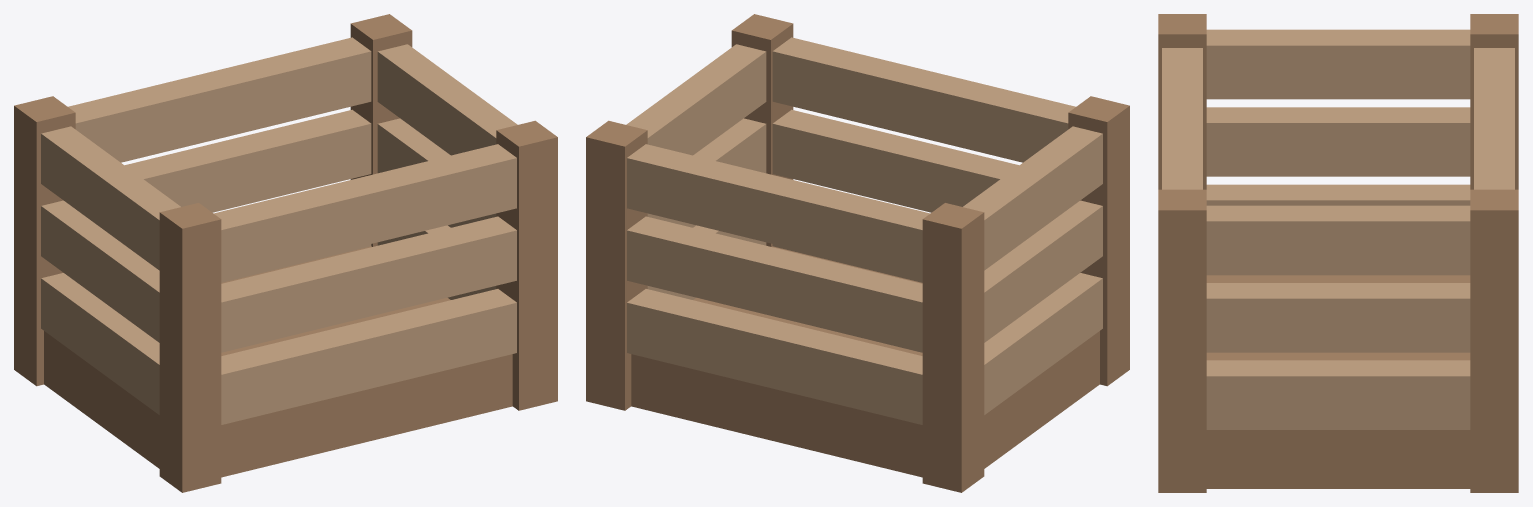
The model's file is fishing-crate.glb.
The picture shows the model from 3 angles, left to right: view 1: azimuth 30°, elevation 25°; view 2: azimuth 150°, elevation 25°; view 3: azimuth 270°, elevation 25°; orthographic projection. The views are drawn at different scales.
Parts seen in each view (by area): view 1: Crate floor, Crate long slat.004, Crate long slat, Crate long slat.002, Crate long slat.005, Crate corner, Crate long slat.003, Crate corner.002, Crate end slat.004, Crate corner.001, Crate end slat.002, Crate end slat (+3 smaller); view 2: Crate floor, Crate long slat.005, Crate long slat.001, Crate long slat.003, Crate long slat.004, Crate corner.001, Crate long slat.002, Crate corner.003, Crate end slat.004, Crate corner, Crate end slat.002, Crate end slat (+3 smaller); view 3: Crate floor, Crate end slat.004, Crate end slat.005, Crate end slat.001, Crate end slat.002, Crate end slat.003, Crate corner.002, Crate corner.003, Crate end slat, Crate long slat.004, Crate long slat.005, Crate corner (+1 smaller).
Boxes of the visible parts, left/top/right/bottom form: Crate floor: left=44, top=246, right=512, bottom=477; Crate long slat.004: left=213, top=144, right=516, bottom=280; Crate long slat: left=221, top=289, right=516, bottom=424; Crate long slat.002: left=221, top=216, right=516, bottom=352; Crate long slat.005: left=68, top=37, right=371, bottom=162; Crate corner: left=159, top=203, right=221, bottom=492; Crate long slat.003: left=125, top=109, right=371, bottom=212; Crate corner.002: left=496, top=120, right=557, bottom=410; Crate end slat.004: left=41, top=126, right=180, bottom=270; Crate corner.001: left=14, top=96, right=75, bottom=386; Crate end slat.002: left=41, top=200, right=159, bottom=342; Crate end slat: left=41, top=273, right=159, bottom=414; Crate floor: left=631, top=246, right=1099, bottom=477; Crate long slat.005: left=627, top=144, right=930, bottom=280; Crate long slat.001: left=627, top=289, right=922, bottom=424; Crate long slat.003: left=627, top=216, right=922, bottom=352; Crate long slat.004: left=772, top=37, right=1075, bottom=162; Crate corner.001: left=922, top=203, right=984, bottom=492; Crate long slat.002: left=772, top=109, right=1018, bottom=212; Crate corner.003: left=586, top=120, right=647, bottom=410; Crate end slat.004: left=963, top=126, right=1102, bottom=270; Crate corner: left=1068, top=96, right=1129, bottom=386; Crate end slat.002: left=984, top=200, right=1102, bottom=342; Crate end slat: left=984, top=273, right=1102, bottom=414; Crate floor: left=1206, top=275, right=1470, bottom=488; Crate end slat.004: left=1206, top=29, right=1470, bottom=99; Crate end slat.005: left=1206, top=205, right=1470, bottom=275; Crate end slat.001: left=1206, top=360, right=1470, bottom=429; Crate end slat.002: left=1206, top=107, right=1470, bottom=176; Crate end slat.003: left=1206, top=283, right=1470, bottom=352; Crate corner.002: left=1158, top=189, right=1206, bottom=492; Crate corner.003: left=1470, top=189, right=1518, bottom=492; Crate end slat: left=1206, top=184, right=1470, bottom=205; Crate long slat.004: left=1162, top=48, right=1202, bottom=189; Crate long slat.005: left=1474, top=48, right=1514, bottom=189; Crate corner: left=1158, top=14, right=1206, bottom=189.
Size of the model in its own units: 1.25 by 0.84 by 0.97.
